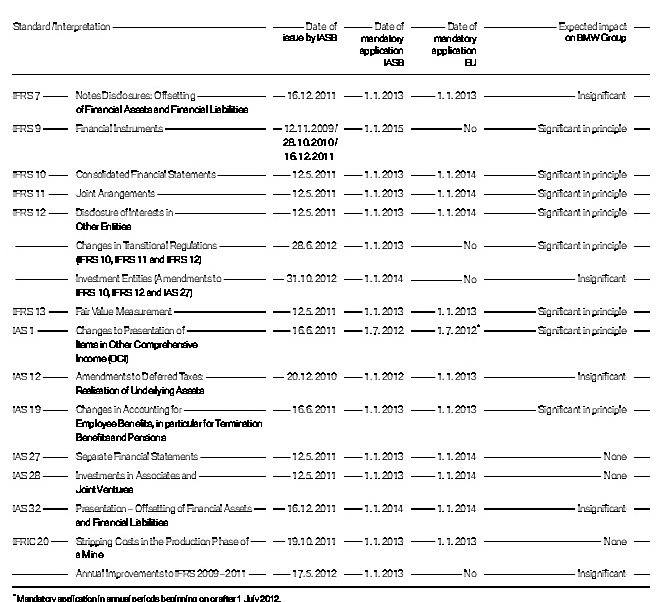table: (0, 0, 669, 602)
